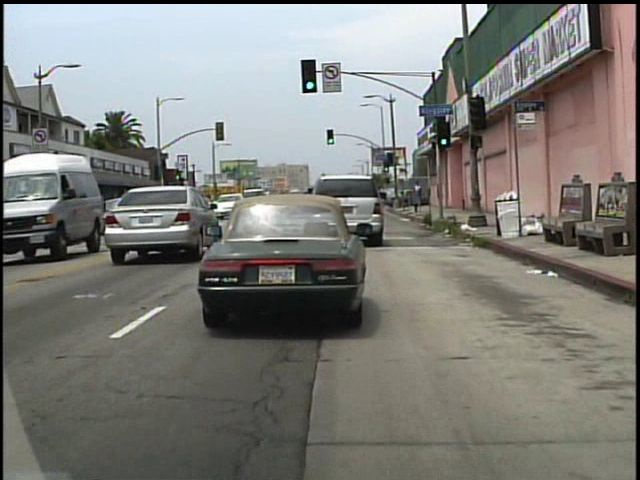person: (413, 181, 425, 208)
